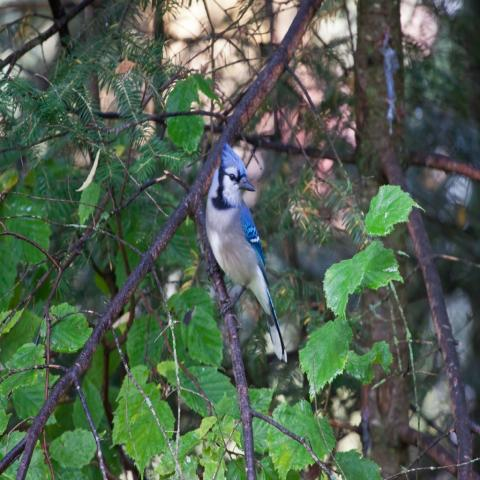bird: (203, 138, 289, 365)
